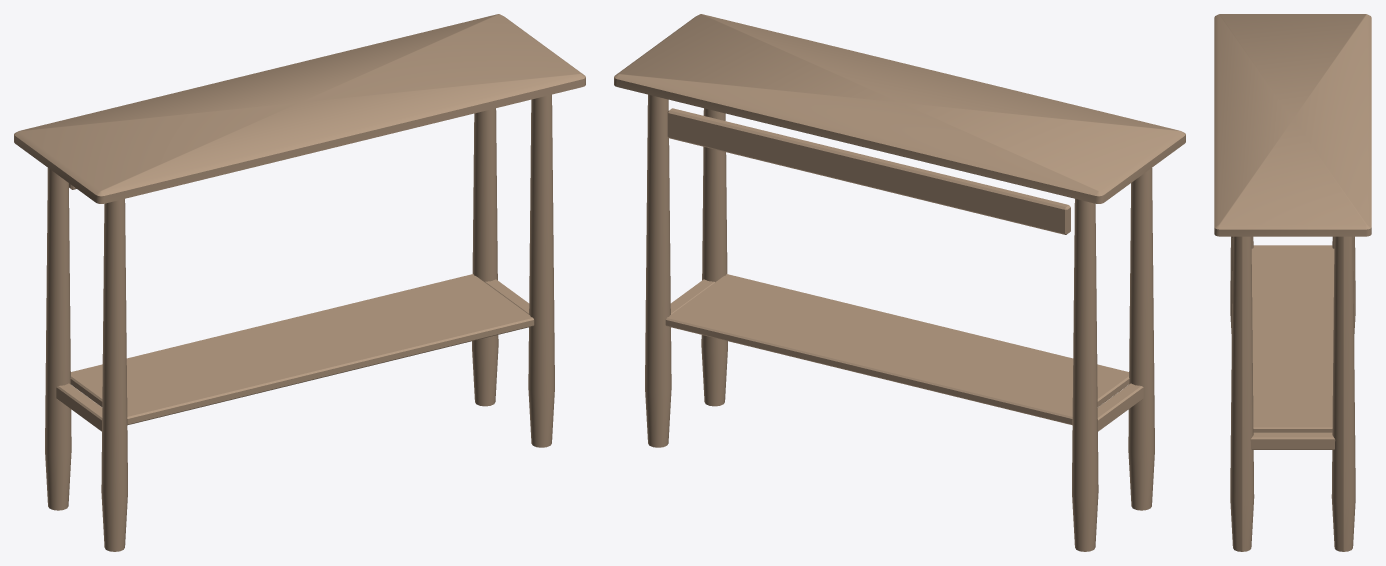
The model's file is hotel-and-resort-operations-corridor-console-table-76daced5__25832.glb.
3 renders of one model, left to right at view 1: azimuth 30°, elevation 25°; view 2: azimuth 150°, elevation 25°; view 3: azimuth 270°, elevation 25°, orthographic. The views are drawn at different scales.
Visible parts, largest first — view 1: corridor-console-table; view 2: corridor-console-table; view 3: corridor-console-table.
Boxes of the visible parts, left/top/right/bottom form: corridor-console-table: left=14, top=14, right=585, bottom=551; corridor-console-table: left=614, top=14, right=1185, bottom=551; corridor-console-table: left=1214, top=14, right=1371, bottom=551.
Size of the model in its own units: 1.1 by 0.8 by 0.34.
